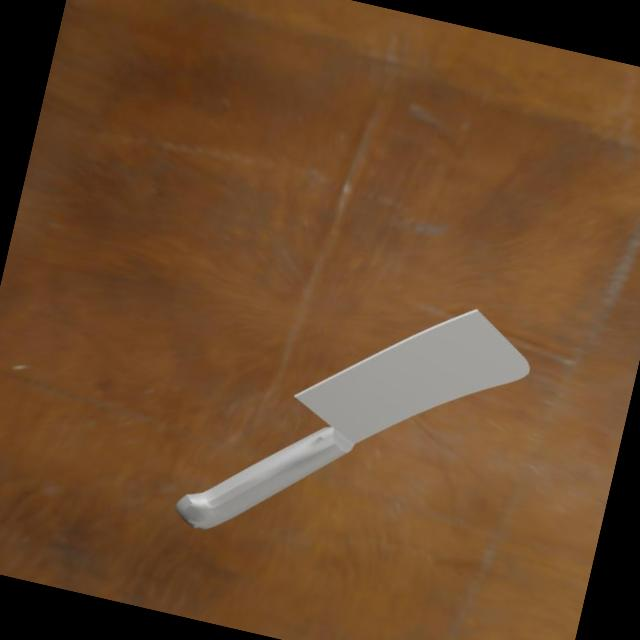knife: (166, 398, 359, 568)
